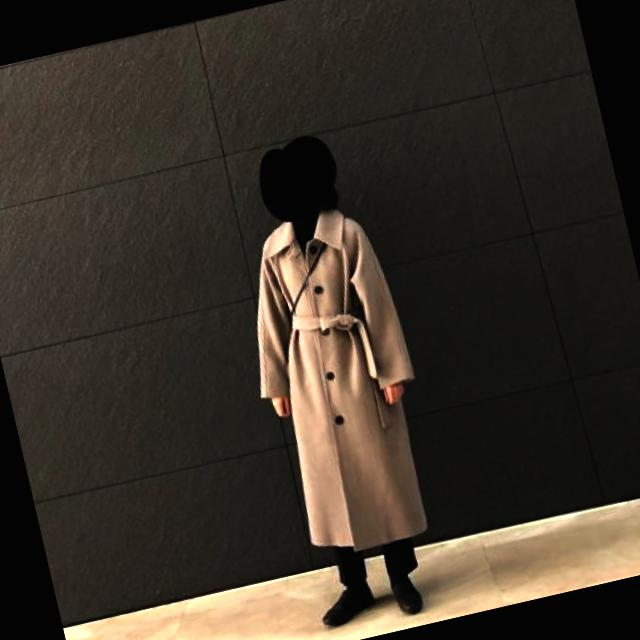coat: (223, 194, 452, 565)
